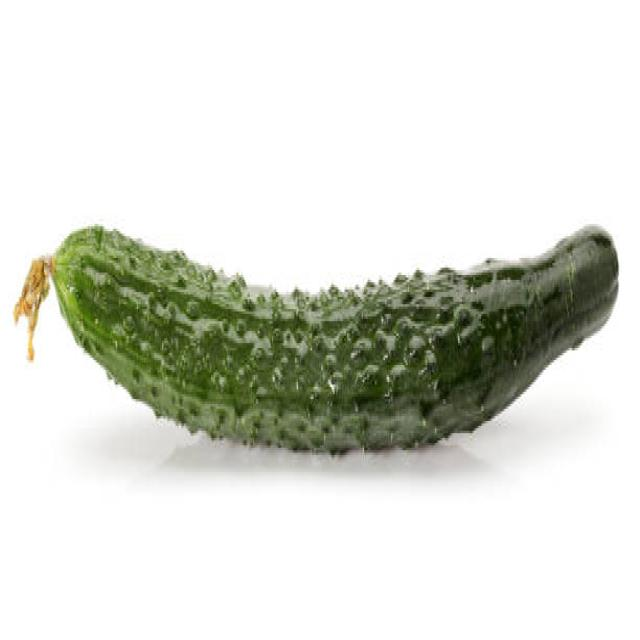cucumber: (51, 222, 619, 455)
